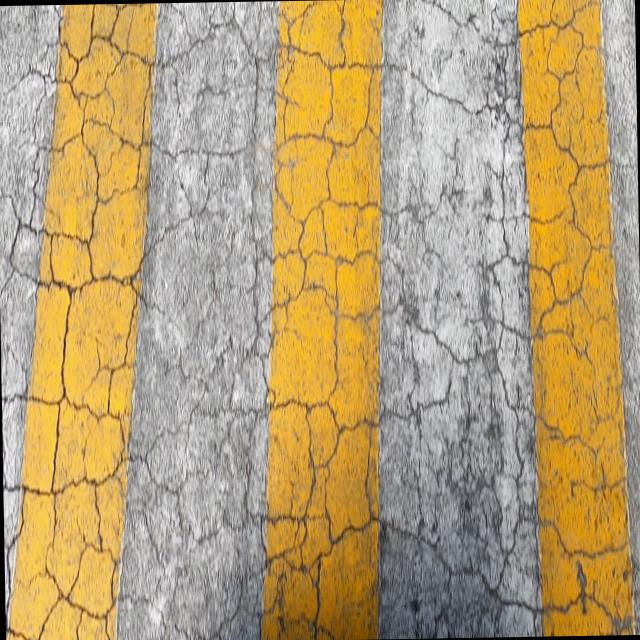Retak-Buaya: (0, 0, 633, 640)
